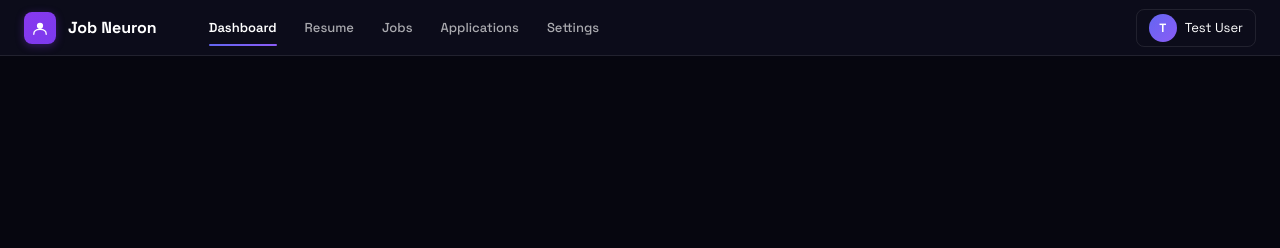
Test: TopNav › renders bug report link inside dropdown
This screenshot has width=1280, height=248.
Open the dropdown
Click the button "T Test User": (1196, 28) [1136,8,1256,46]
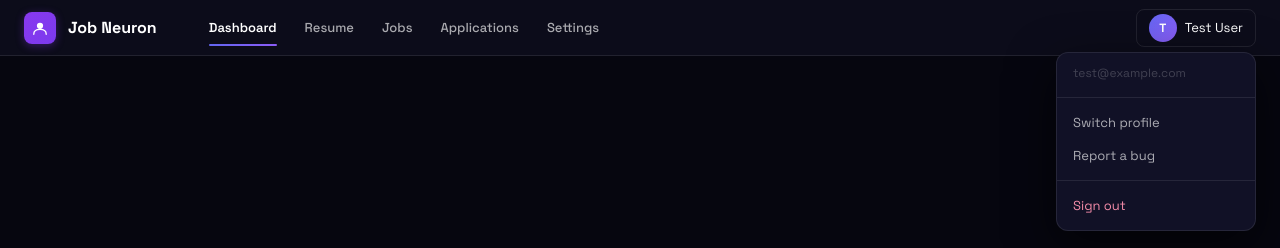
Now the link "Report a bug" is shown, box [1073,147,1155,164]
